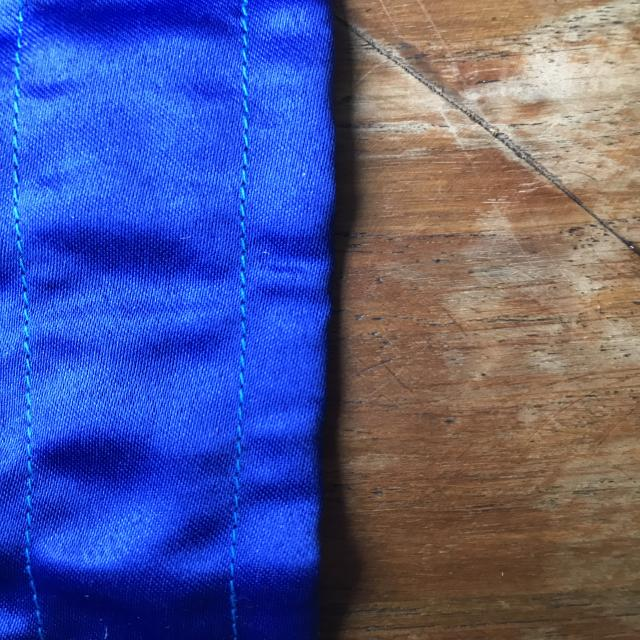good: (211, 151, 274, 404)
